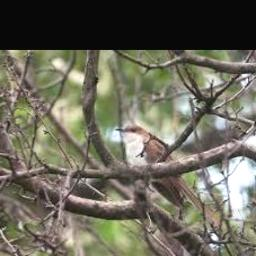Cuckoo: (116, 124, 226, 229)
